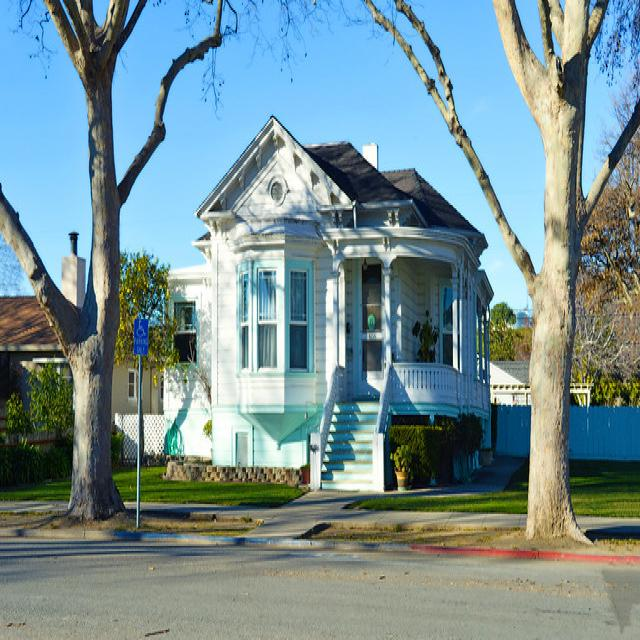Normal_building: (134, 118, 494, 500)
